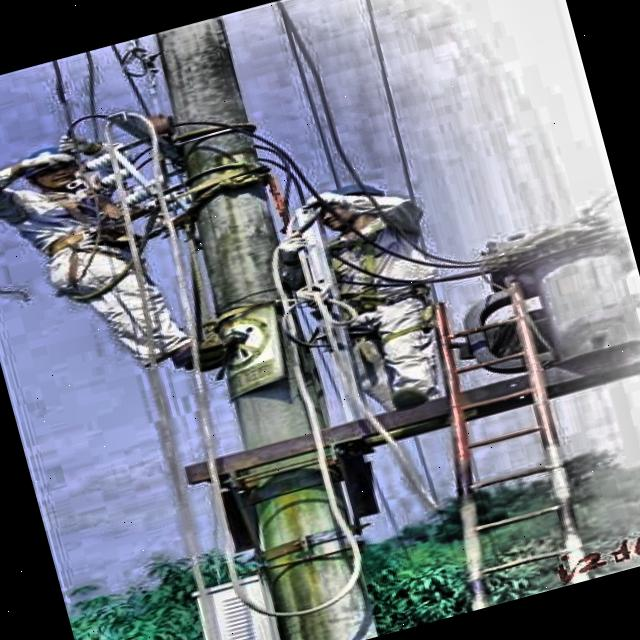helmet: (308, 170, 390, 239), (18, 132, 98, 200)
